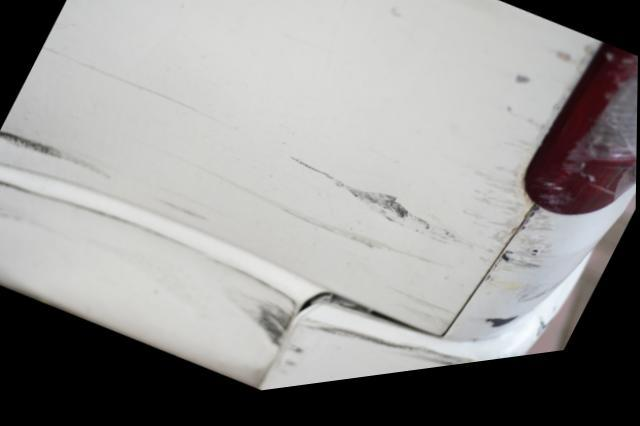scratch: (0, 38, 603, 361), (283, 226, 561, 396)
